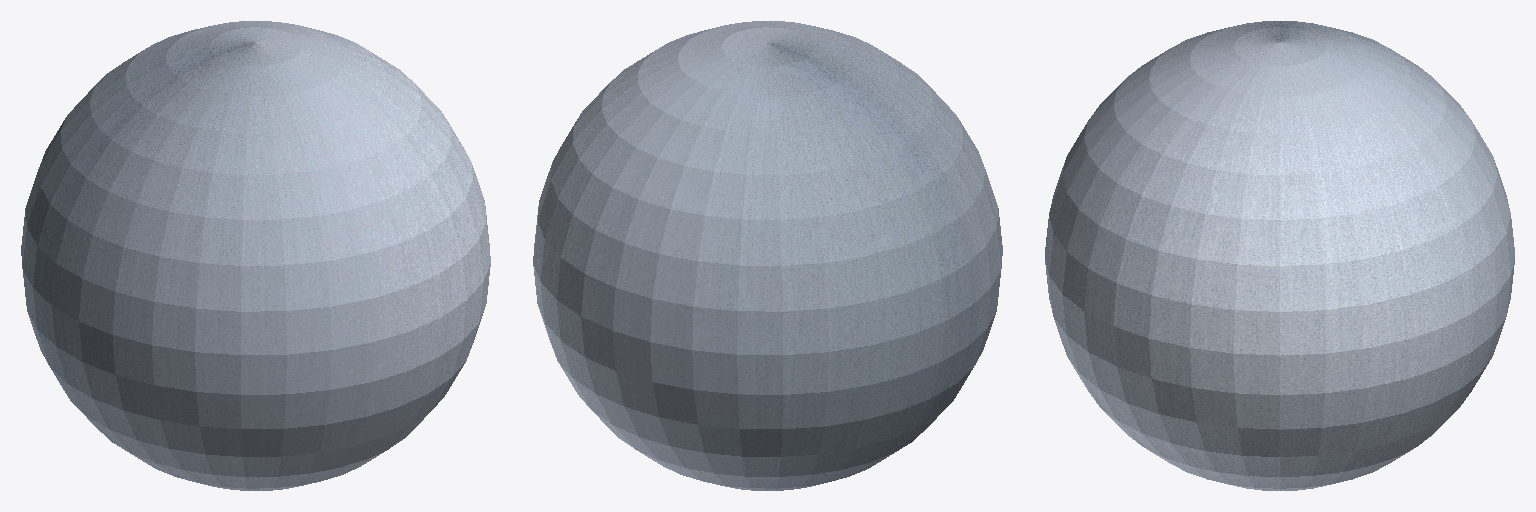
3 views of the same model, side by side, from view 1: azimuth 30°, elevation 25°; view 2: azimuth 150°, elevation 25°; view 3: azimuth 270°, elevation 25° (orthographic).
Visible parts, largest first — view 1: 球; view 2: 球; view 3: 球.
Part boxes in pixels (x1,y1,x2,y2): 球: (21, 21, 490, 490); 球: (533, 21, 1002, 490); 球: (1045, 21, 1514, 490).
Bounding box in the file's own units: 2000 × 2000 × 2000.
Materials: 1 (1 with a texture image).